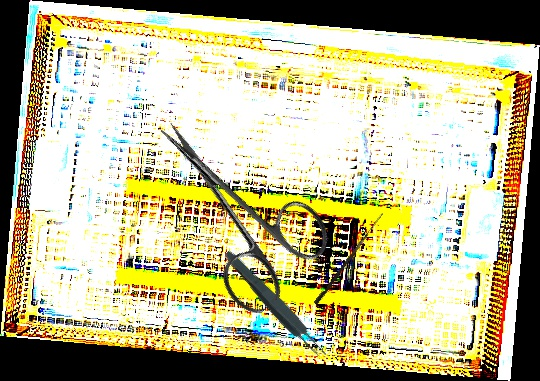Hook Surgical: (313, 209, 384, 307)
Iris Scissors: (118, 89, 343, 321)
Tissue Forceps: (219, 246, 331, 364)
